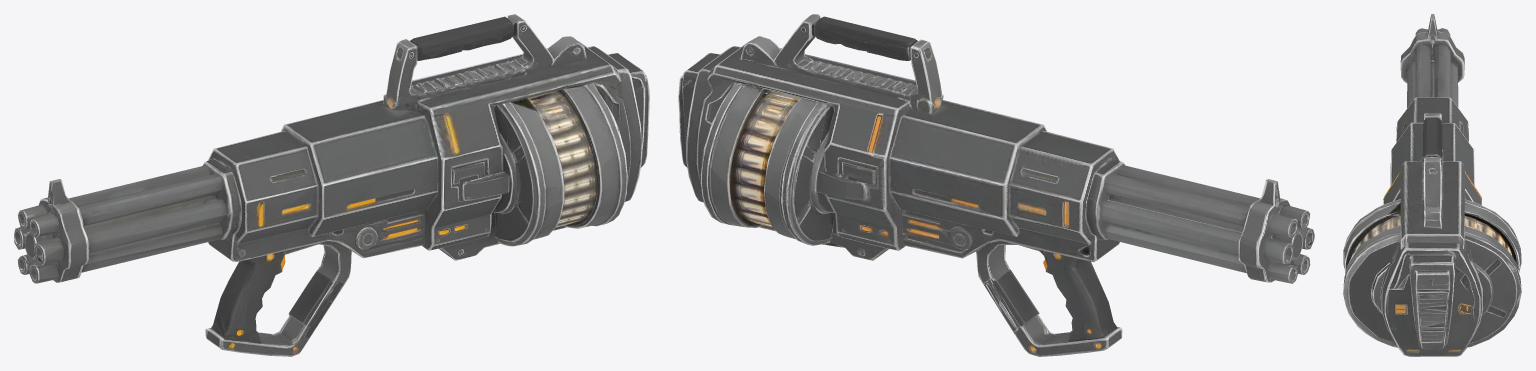
Rendered from chaingun.glb.
The picture shows the model from 3 angles, left to right: view 1: azimuth 30°, elevation 25°; view 2: azimuth 150°, elevation 25°; view 3: azimuth 270°, elevation 25°; orthographic projection. The views are drawn at different scales.
Visible parts, largest first — view 1: Mesh_0; view 2: Mesh_0; view 3: Mesh_0.
Part boxes in pixels (bbox=[...]): Mesh_0: bbox=[14, 14, 649, 356]; Mesh_0: bbox=[678, 14, 1314, 356]; Mesh_0: bbox=[1343, 14, 1521, 356].
Size of the model in its own units: 1.9 by 0.822 by 0.5855.
Materials: 1 (1 with a texture image).
